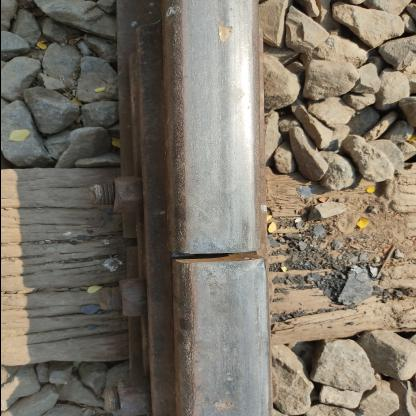Non Defective 2: (106, 167, 314, 336)
